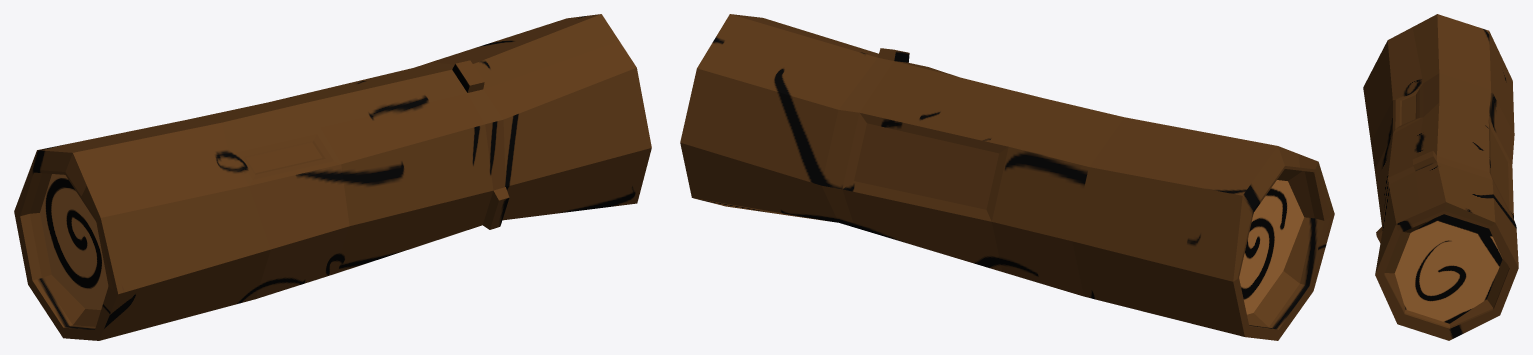
Rendered from SM_Log_Small_1.fbx.
3 views of the same model, side by side, from view 1: azimuth 30°, elevation 25°; view 2: azimuth 150°, elevation 25°; view 3: azimuth 270°, elevation 25° (orthographic). The views are drawn at different scales.
Visible parts, largest first — view 1: SM_Log_Small_1; view 2: SM_Log_Small_1; view 3: SM_Log_Small_1.
Boxes of the visible parts, x1,y1,x2,y2 form: SM_Log_Small_1: (14, 14, 651, 340); SM_Log_Small_1: (680, 14, 1334, 340); SM_Log_Small_1: (1363, 14, 1518, 340).
Size of the model in its own units: 6.4 by 2.16 by 2.15.
